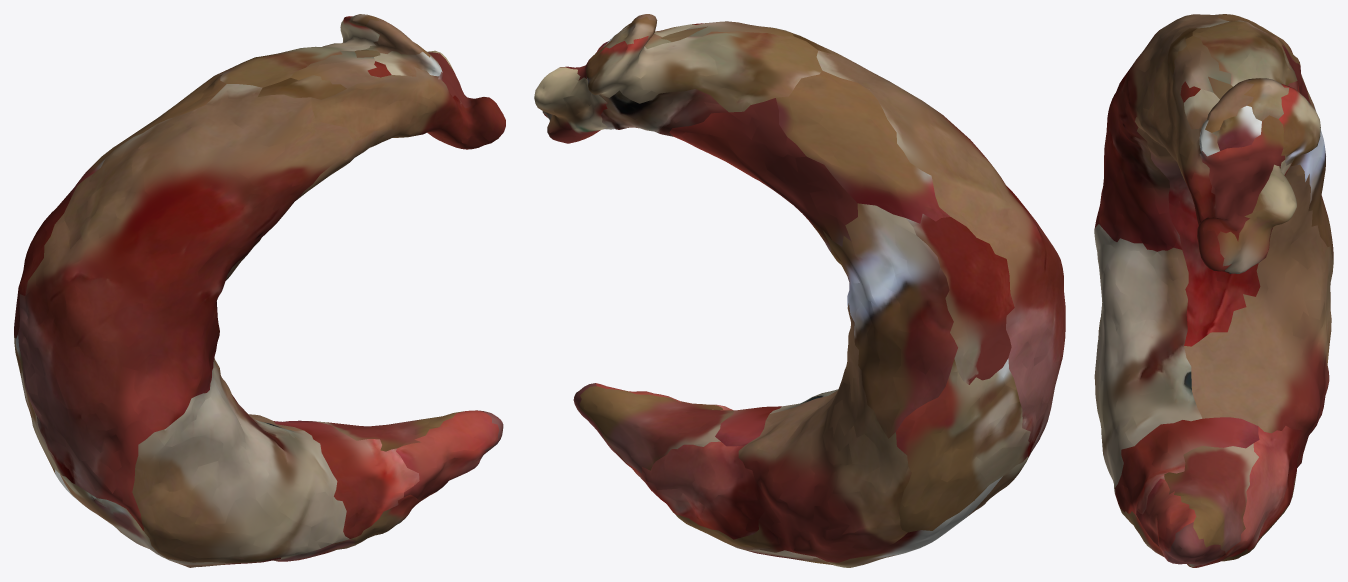
File: yamEsacpe_YamWalk_0013_yamWalk07.fbx
The picture shows the model from 3 angles, left to right: view 1: azimuth 30°, elevation 25°; view 2: azimuth 150°, elevation 25°; view 3: azimuth 270°, elevation 25°; orthographic projection. The views are drawn at different scales.
Visible parts, largest first — view 1: YamWalk_0013_yamWalk07; view 2: YamWalk_0013_yamWalk07; view 3: YamWalk_0013_yamWalk07.
Boxes of the visible parts, x1,y1,x2,y2 form: YamWalk_0013_yamWalk07: (14, 14, 505, 567); YamWalk_0013_yamWalk07: (534, 14, 1065, 567); YamWalk_0013_yamWalk07: (1094, 14, 1333, 567).
Size of the model in its own units: 0.0759 by 0.0747 by 0.0322.
